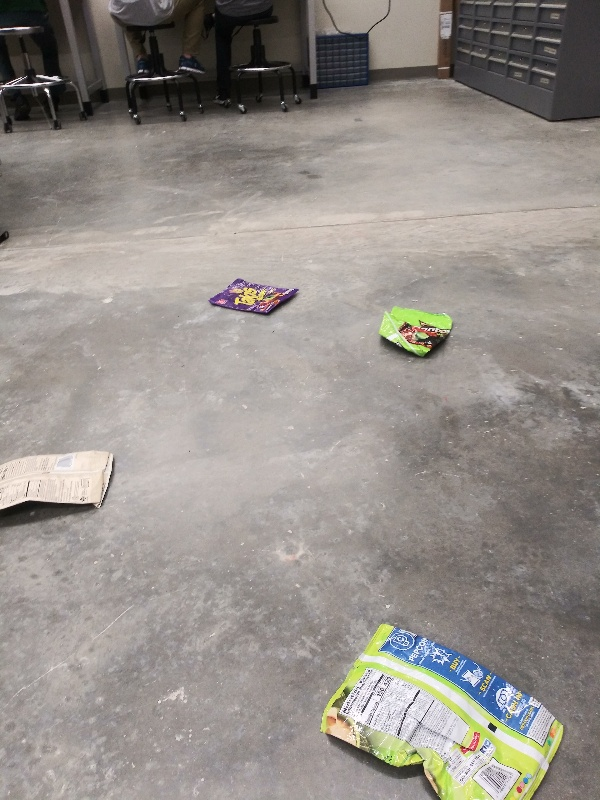bag: (318, 618, 570, 800), (1, 444, 118, 524), (374, 301, 455, 361), (205, 275, 301, 320)
